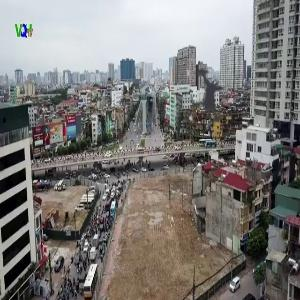drone: (159, 50, 259, 150)
